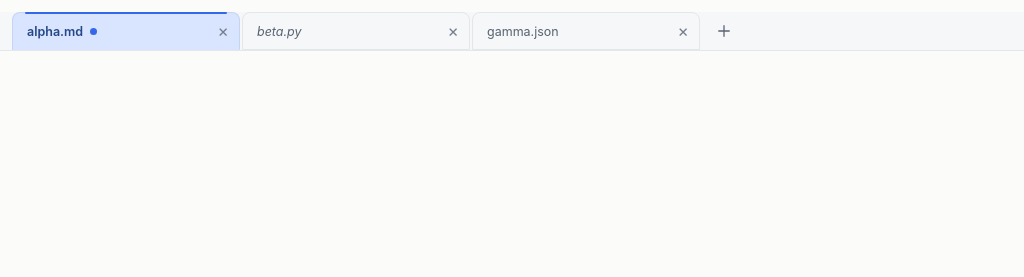
it: disables empty left/right ranges and skips disabled actions with the keyboard
Right-click the button titled "/notes/alpha.md" at (112, 31), box x1=13 y1=13 x2=211 y2=49
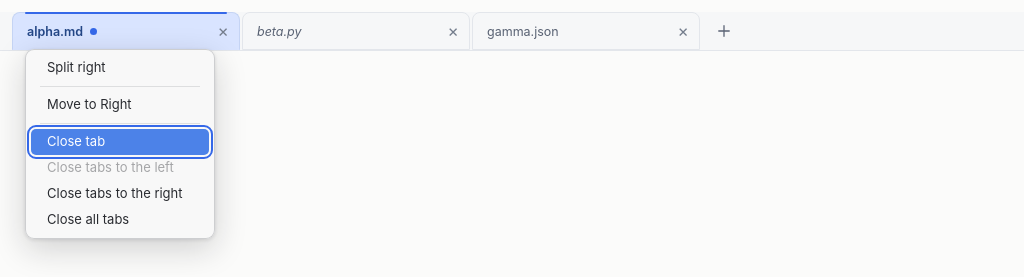
Result: the menu item "Close tabs to the left" is disabled at x1=31 y1=155 x2=209 y2=181
Press ArrowDown in the menu item "Close tab", box x1=31 y1=129 x2=209 y2=155
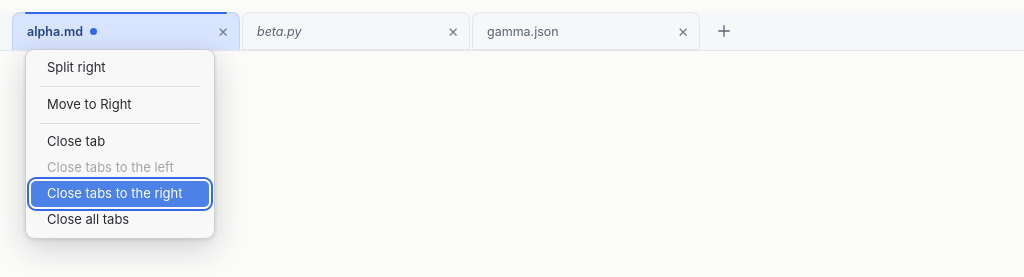
Press Escape in the menu item "Close tabs to the right", box x1=31 y1=181 x2=209 y2=207
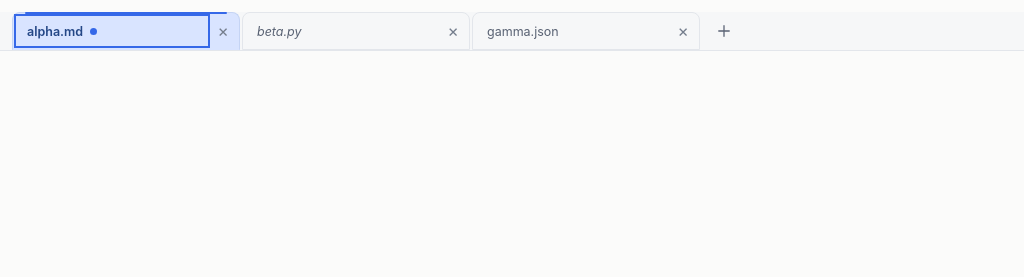
Right-click the button titled "/notes/gamma.json" at (572, 31), box x1=473 y1=13 x2=671 y2=49
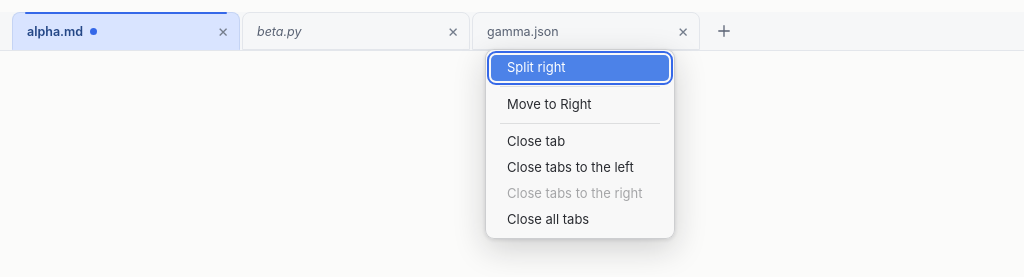
Result: the menu item "Close tabs to the right" is disabled at x1=491 y1=181 x2=669 y2=207
